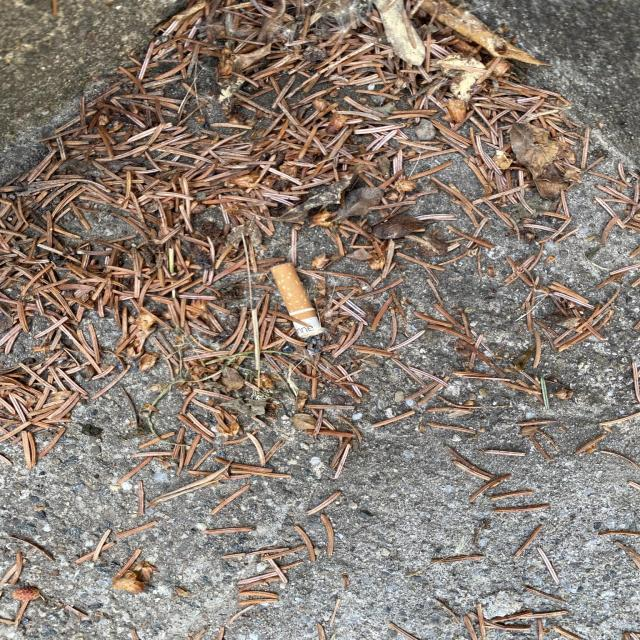other waste: (269, 262, 326, 338)
